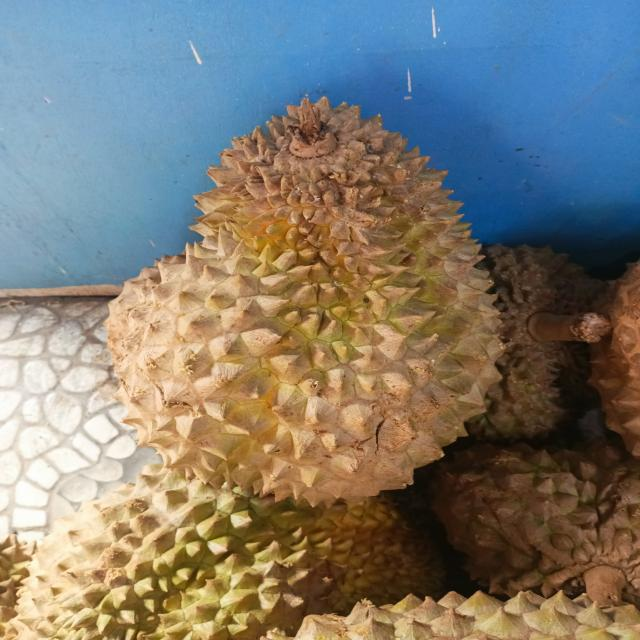mature: (110, 102, 480, 488), (1, 462, 423, 640), (435, 445, 640, 598), (472, 245, 612, 439)
